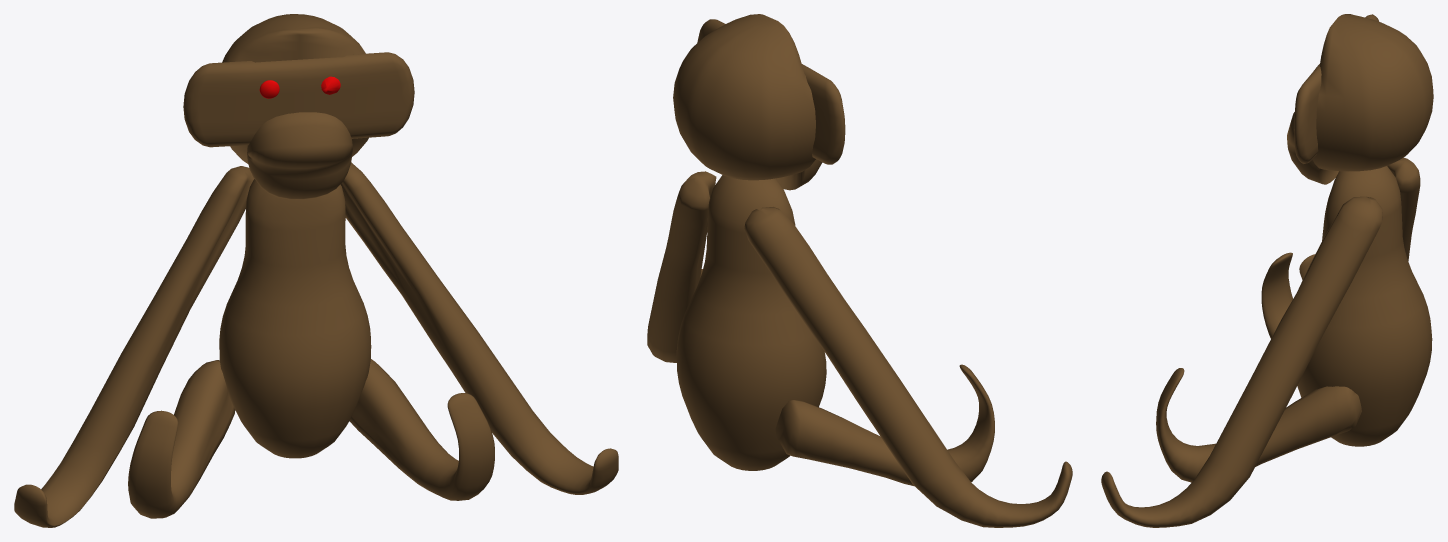
File: monkey1.fbx
3 renders of one model, left to right at view 1: azimuth 30°, elevation 25°; view 2: azimuth 150°, elevation 25°; view 3: azimuth 270°, elevation 25°, orthographic. The views are drawn at different scales.
Parts seen in each view (by area): view 1: monkey1; view 2: monkey1; view 3: monkey1.
Boxes of the visible parts, left/top/right/bottom form: monkey1: left=14, top=14, right=618, bottom=527; monkey1: left=647, top=14, right=1072, bottom=527; monkey1: left=1101, top=14, right=1433, bottom=527.
Size of the model in its own units: 31.61 by 26.63 by 19.09.
